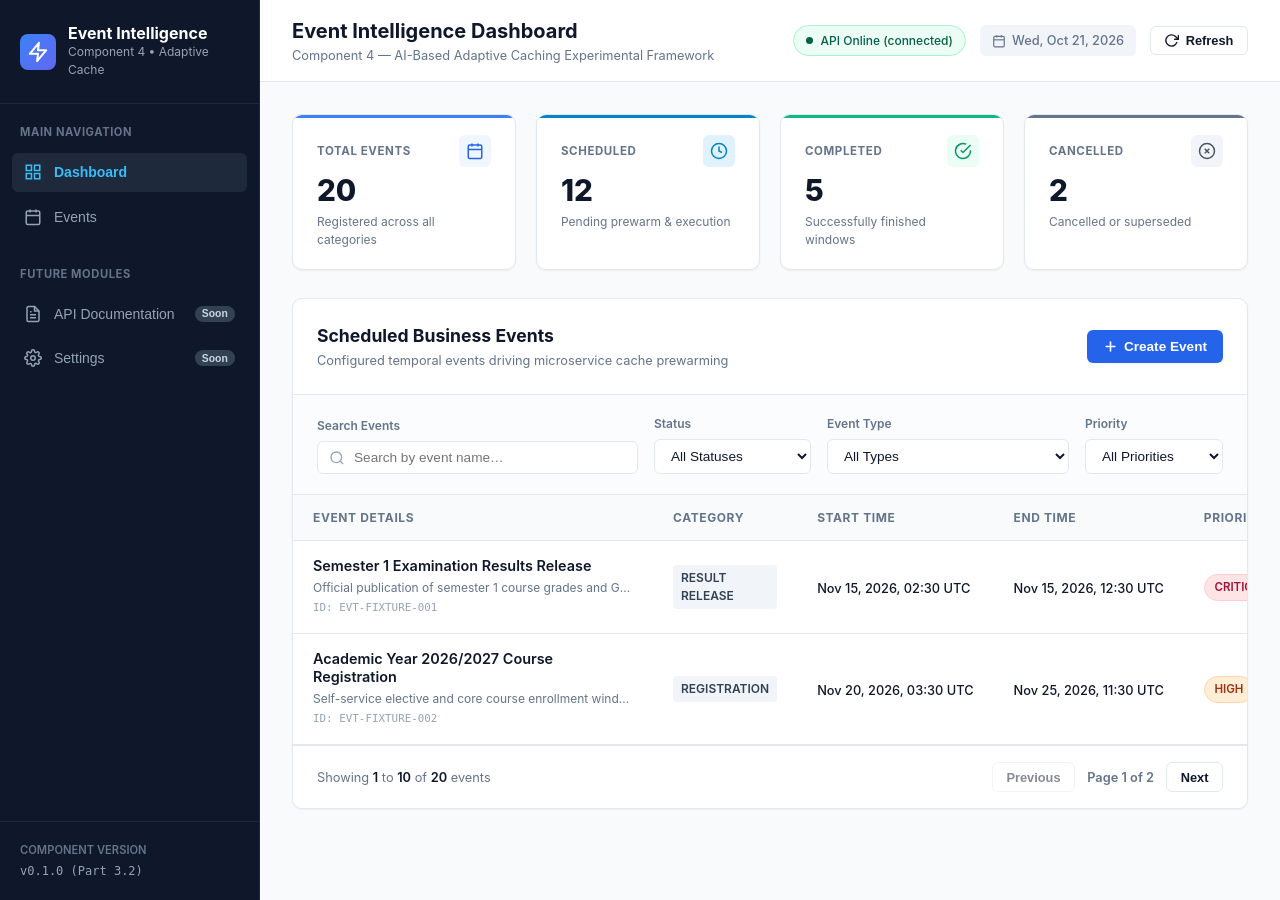
Test case: Frontend Dashboard Foundation — Part 3.2 › supports client-side search filtering on loaded events
Expected: the button "Semester 1 Examination Results Release" is shown, [313, 557, 633, 576]
Expected: the button "Academic Year 2026/2027 Course Registration" is shown, [313, 650, 633, 687]
In the field labelled "Search Events": (478, 458) [317, 441, 638, 474], type "Examination"
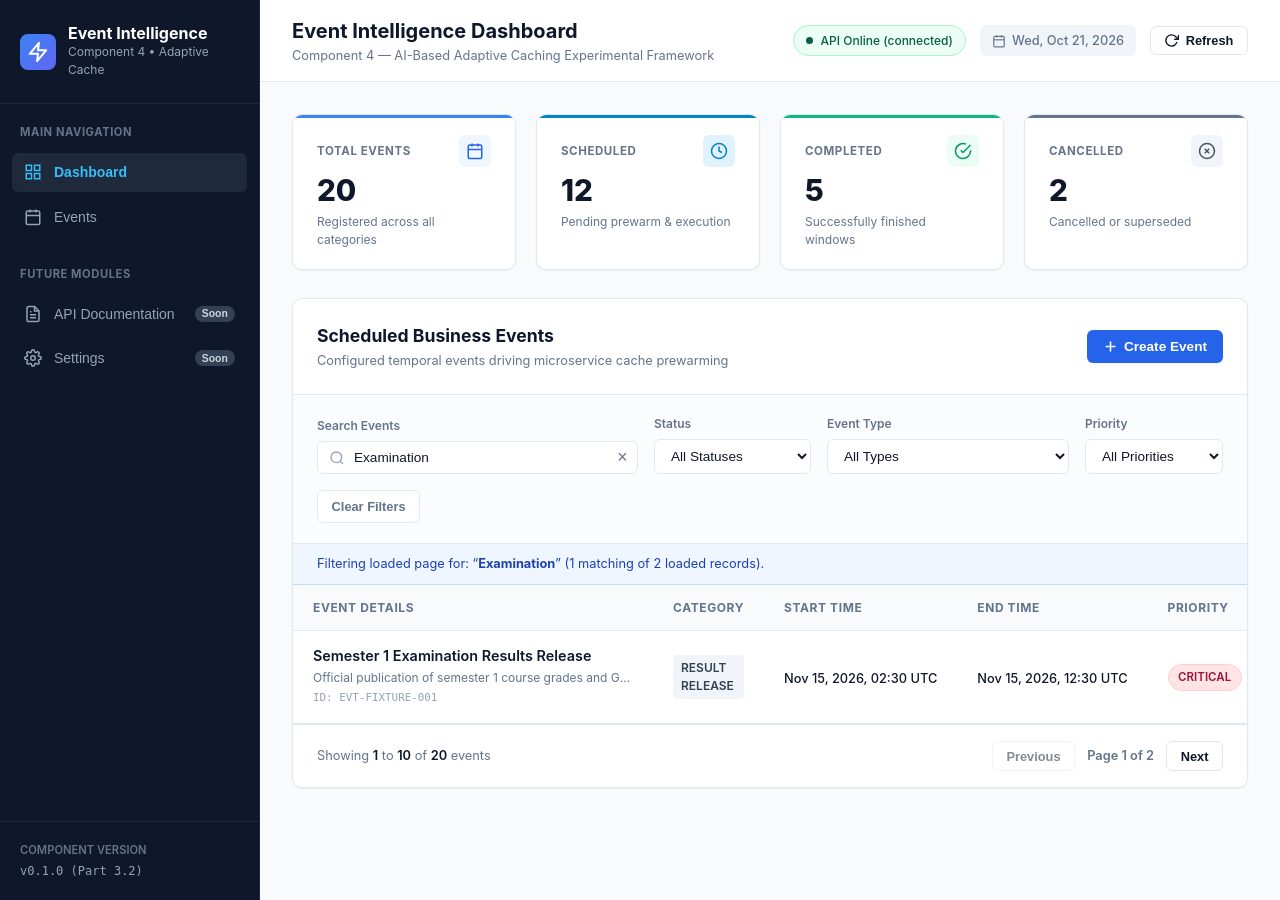
Expected: the button "Semester 1 Examination Results Release" is shown, [313, 647, 633, 666]
Result: the button "Academic Year 2026/2027 Course Registration" is gone
Result: the text "Filtering loaded page for" is shown at [317, 556, 478, 572]
Note: Clear filters
Click the button "Clear Filters": (369, 507) [317, 490, 420, 523]
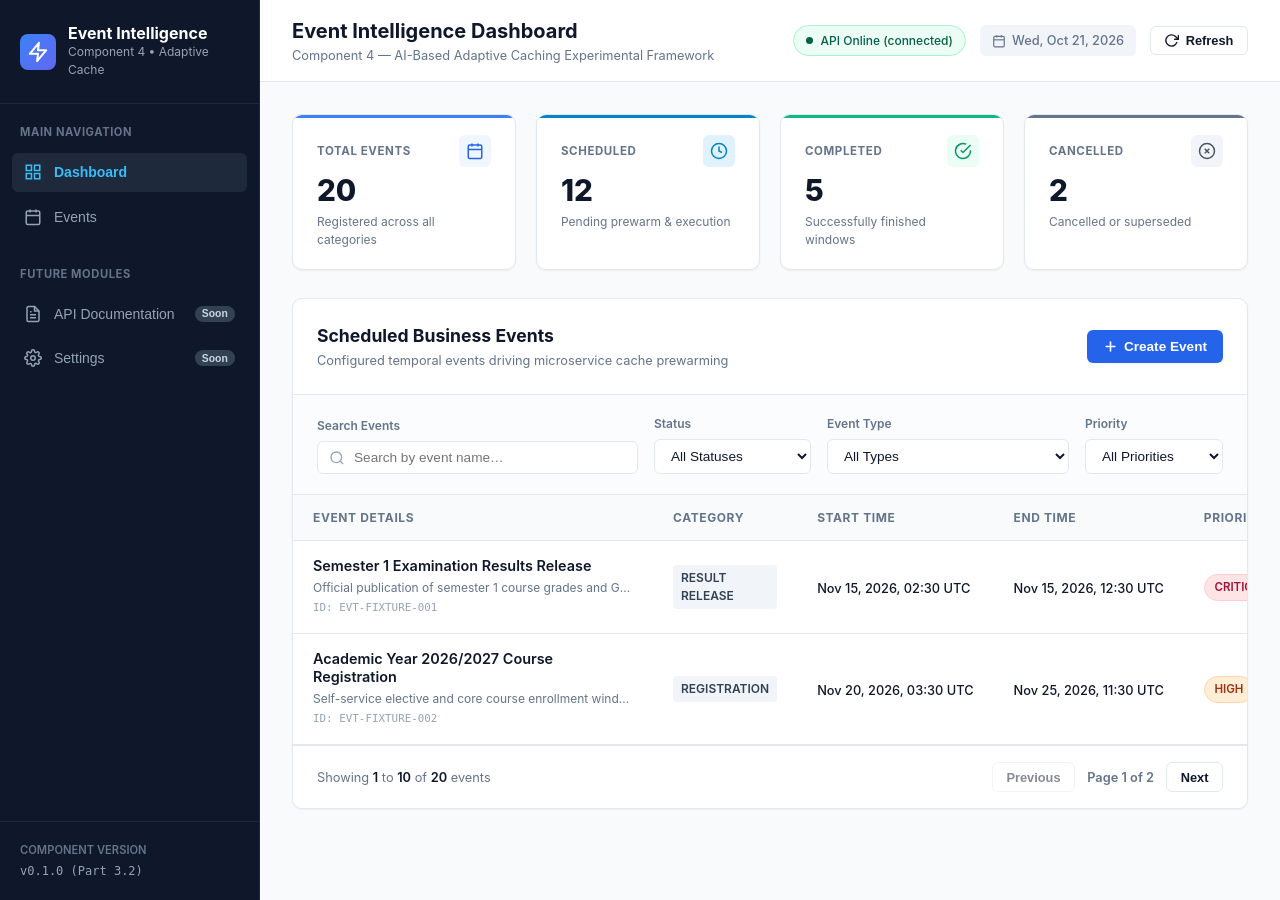
Result: the button "Academic Year 2026/2027 Course Registration" is shown at [313, 650, 633, 687]
